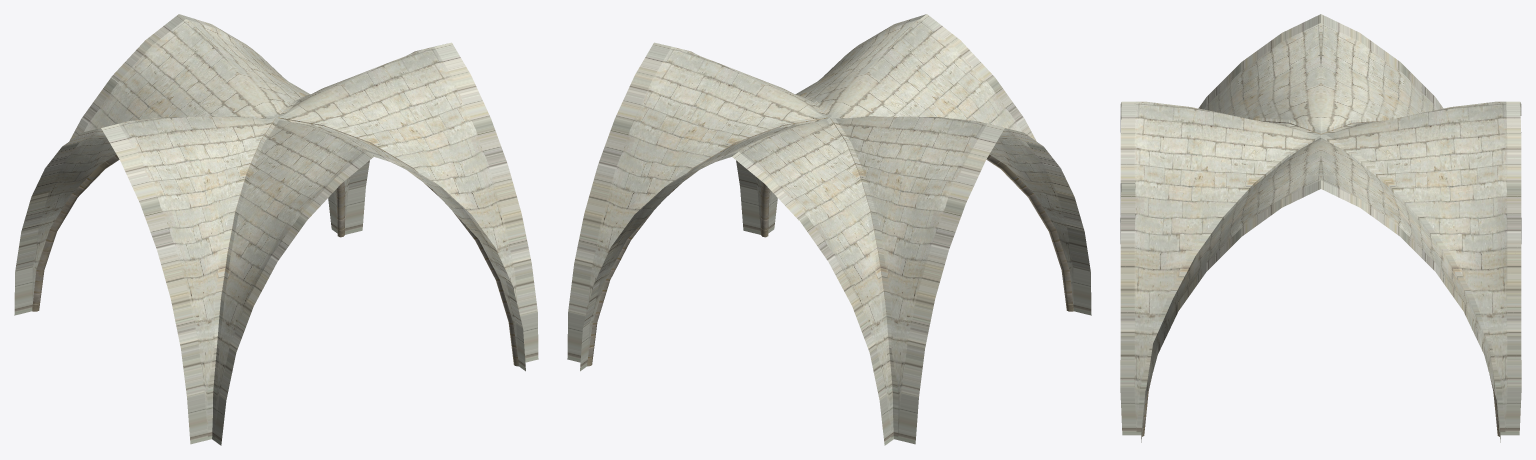
The model's file is Cath_roof_2x2_low.FBX.
3 views of the same model, side by side, from view 1: azimuth 30°, elevation 25°; view 2: azimuth 150°, elevation 25°; view 3: azimuth 270°, elevation 25° (orthographic). The views are drawn at different scales.
Parts seen in each view (by area): view 1: Roofwall009, Roofwall011, Roofwall010, Roofwall008, RoofNerv011; view 2: Roofwall009, Roofwall011, Roofwall008, Roofwall010, RoofNerv011; view 3: Roofwall010, Roofwall008, Roofwall009, Roofwall011, RoofNerv011.
Part boxes in pixels (left/top/right/bottom): Roofwall009: left=14, top=116, right=274, bottom=444; Roofwall011: left=278, top=42, right=538, bottom=362; Roofwall010: left=212, top=118, right=525, bottom=445; Roofwall008: left=69, top=14, right=337, bottom=233; RoofNerv011: left=32, top=117, right=518, bottom=396; Roofwall009: left=831, top=116, right=1091, bottom=444; Roofwall011: left=567, top=42, right=827, bottom=362; Roofwall008: left=580, top=118, right=893, bottom=445; Roofwall010: left=768, top=14, right=1036, bottom=233; RoofNerv011: left=587, top=117, right=1073, bottom=396; Roofwall010: left=1120, top=101, right=1320, bottom=435; Roofwall008: left=1321, top=101, right=1521, bottom=435; Roofwall009: left=1198, top=14, right=1443, bottom=133; Roofwall011: left=1141, top=135, right=1500, bottom=442; RoofNerv011: left=1142, top=120, right=1499, bottom=436.
Bounding box in the file's own units: 831 × 806 × 572.
